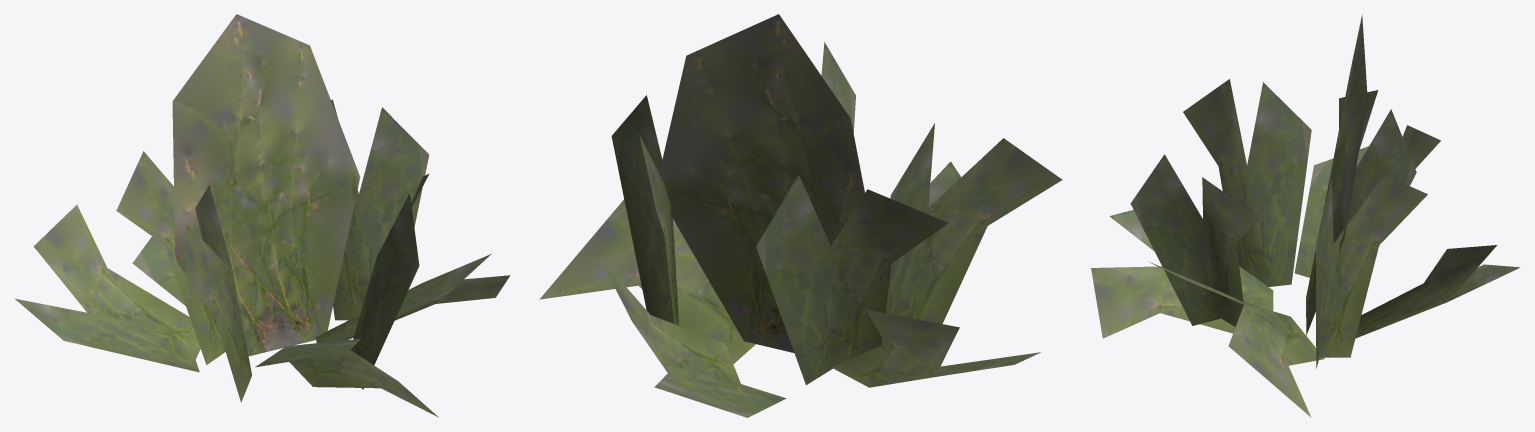
File: SM_Grass_01.FBX
3 renders of one model, left to right at view 1: azimuth 30°, elevation 25°; view 2: azimuth 150°, elevation 25°; view 3: azimuth 270°, elevation 25°, orthographic. The views are drawn at different scales.
Visible parts, largest first — view 1: Grass_01, SM_Grass_02.007, SM_Grass_02.003, SM_Grass_02.002, SM_Grass_02.008, SM_Grass_02.001, SM_Grass_02.004, SM_Grass_02.006, SM_Grass_02.005; view 2: Grass_01, SM_Grass_02.001, SM_Grass_02.002, SM_Grass_02.006, SM_Grass_02.003, SM_Grass_02.005, SM_Grass_02.007, SM_Grass_02.008, SM_Grass_02.004; view 3: SM_Grass_02.002, SM_Grass_02.008, SM_Grass_02.003, SM_Grass_02.004, SM_Grass_02.006, SM_Grass_02.005, Grass_01, SM_Grass_02.001, SM_Grass_02.007.
Part boxes in pixels (x1,y1,x2,y2): Grass_01: [172, 14, 360, 356]; SM_Grass_02.007: [15, 205, 200, 372]; SM_Grass_02.003: [331, 99, 429, 320]; SM_Grass_02.002: [186, 185, 251, 402]; SM_Grass_02.008: [351, 173, 429, 389]; SM_Grass_02.001: [116, 151, 225, 364]; SM_Grass_02.004: [255, 338, 438, 417]; SM_Grass_02.006: [315, 254, 510, 342]; SM_Grass_02.005: [132, 236, 185, 305]; Grass_01: [659, 14, 881, 352]; SM_Grass_02.001: [756, 174, 948, 384]; SM_Grass_02.002: [881, 123, 1062, 345]; SM_Grass_02.006: [539, 199, 755, 363]; SM_Grass_02.003: [611, 95, 679, 325]; SM_Grass_02.005: [599, 256, 786, 417]; SM_Grass_02.007: [831, 309, 1040, 387]; SM_Grass_02.008: [821, 42, 855, 132]; SM_Grass_02.004: [928, 161, 961, 207]; SM_Grass_02.002: [1183, 79, 1311, 286]; SM_Grass_02.008: [1130, 154, 1261, 326]; SM_Grass_02.003: [1316, 175, 1427, 368]; SM_Grass_02.004: [1091, 209, 1273, 338]; SM_Grass_02.006: [1148, 261, 1324, 417]; SM_Grass_02.005: [1355, 245, 1520, 338]; Grass_01: [1306, 14, 1367, 335]; SM_Grass_02.001: [1339, 90, 1416, 245]; SM_Grass_02.007: [1294, 125, 1440, 277].
Bounding box in the file's own units: 154 × 113 × 139.
